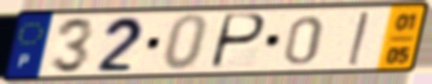0: (157, 12, 213, 74), (281, 14, 329, 66)
2: (90, 12, 149, 76)
3: (51, 15, 98, 76)
I: (345, 10, 371, 68)
P: (207, 12, 269, 72)
